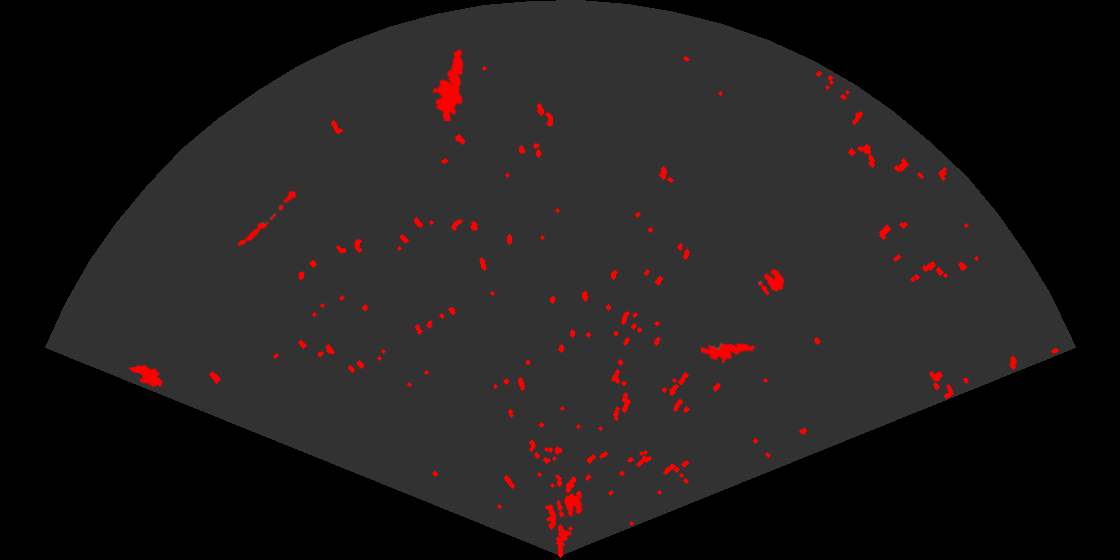AUV: (127, 363, 165, 389)
ball: (757, 267, 787, 297), (555, 492, 584, 519)
chain: (236, 184, 305, 248)
frogman: (430, 47, 465, 121), (701, 341, 756, 365)
